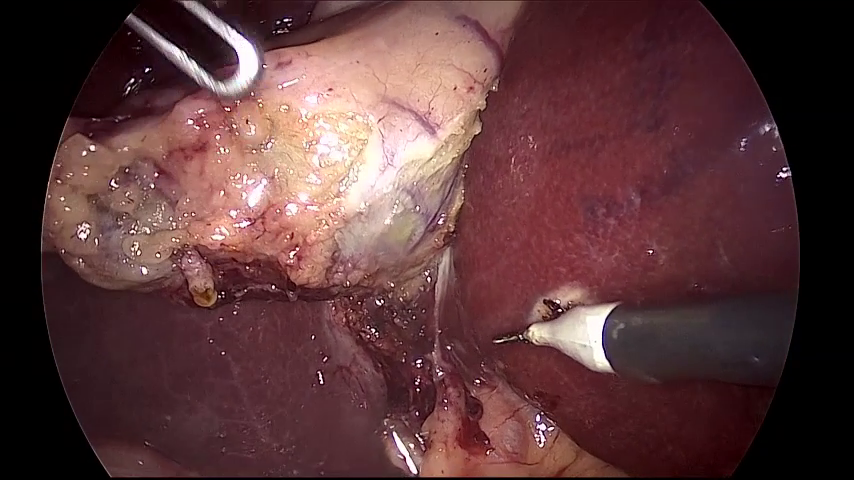grasper: (124, 1, 258, 95)
lhook: (495, 289, 798, 389)
